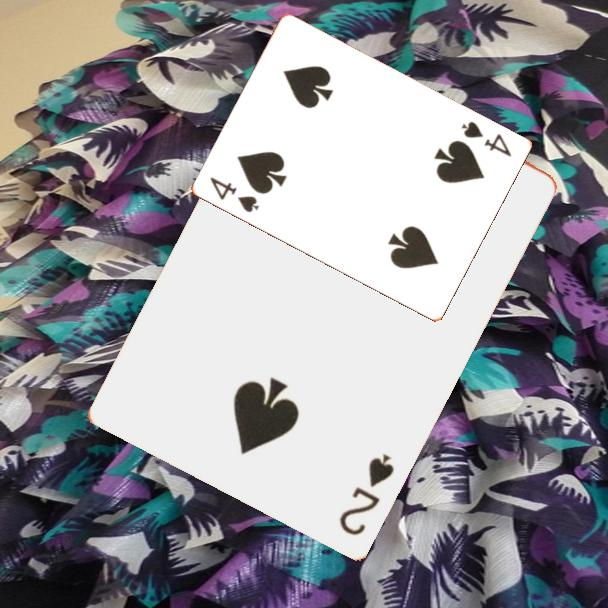s02: (335, 449, 397, 538)
s04: (206, 173, 262, 216), (457, 118, 514, 160)
